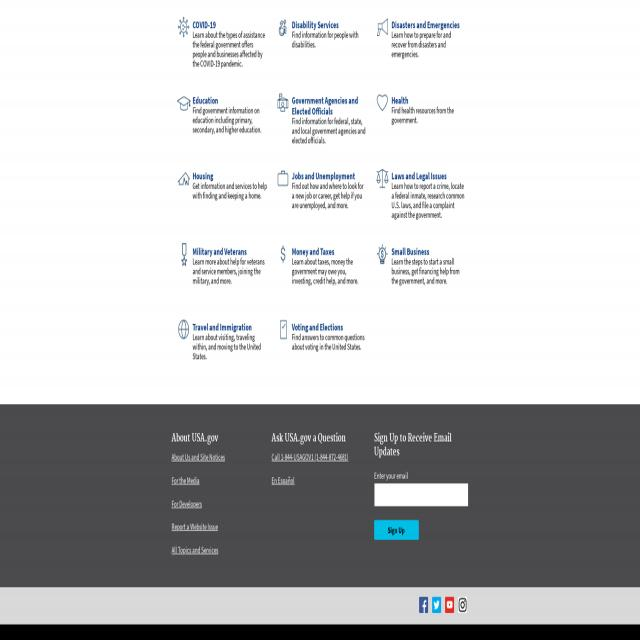button: (272, 89, 368, 160), (372, 164, 466, 234), (173, 13, 268, 82), (272, 239, 368, 300), (173, 88, 268, 149), (173, 239, 268, 300), (272, 164, 368, 224), (372, 239, 466, 300), (173, 315, 268, 375), (372, 13, 466, 73), (272, 315, 368, 366), (272, 13, 368, 64), (173, 164, 268, 214), (372, 89, 466, 139), (374, 520, 419, 540), (419, 598, 428, 614), (432, 598, 441, 614), (445, 598, 454, 614), (458, 598, 467, 614)
field: (374, 483, 468, 506)
